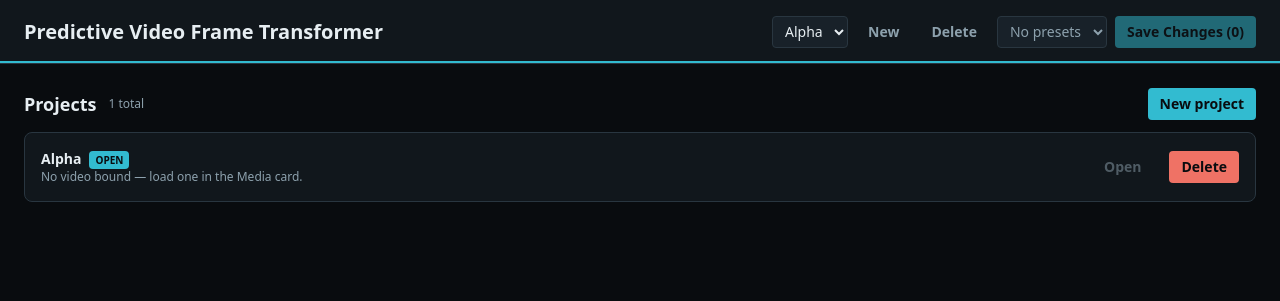
Test case: projects overview › creates a project from the overview and opens it
The image size is (1280, 301).
Expected: the number of elements with test id "project-row" is 1, [24, 132, 1256, 202]
Click the button with test id "btn-new-project-home" at (1202, 104), box [1148, 88, 1256, 120]
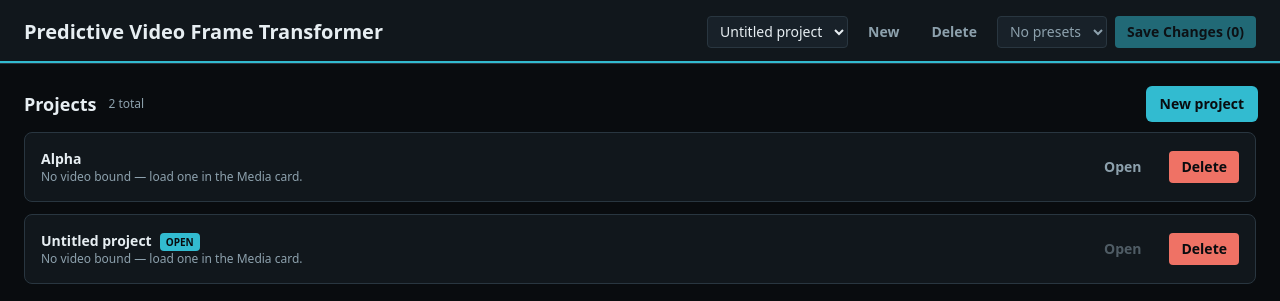
Expected: the dropdown named "Project" shows "Untitled project", [707, 16, 848, 48]
